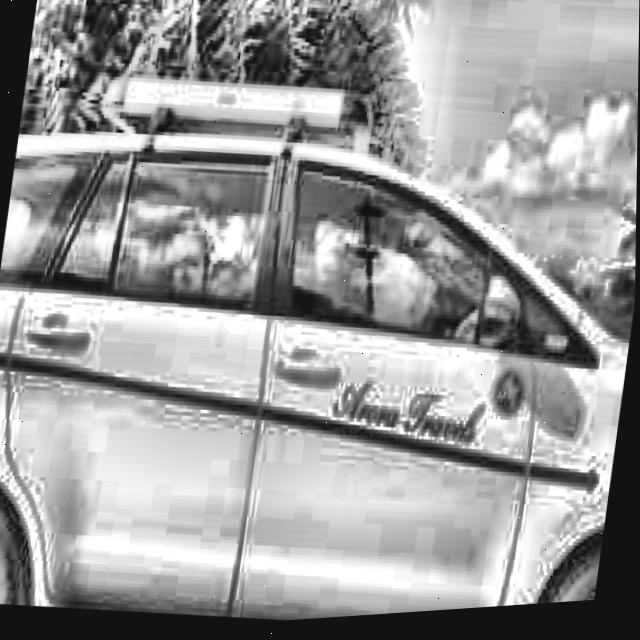light_vehicle: (0, 38, 639, 640)
